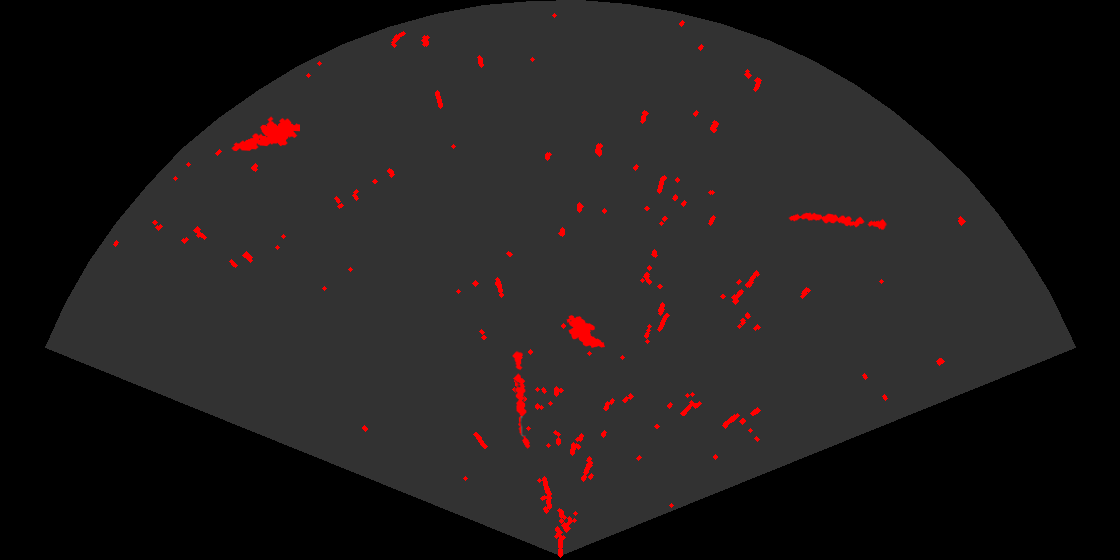AUV: (565, 313, 607, 350)
chain: (511, 350, 532, 450), (787, 211, 889, 231)
frogman: (230, 115, 300, 153)
